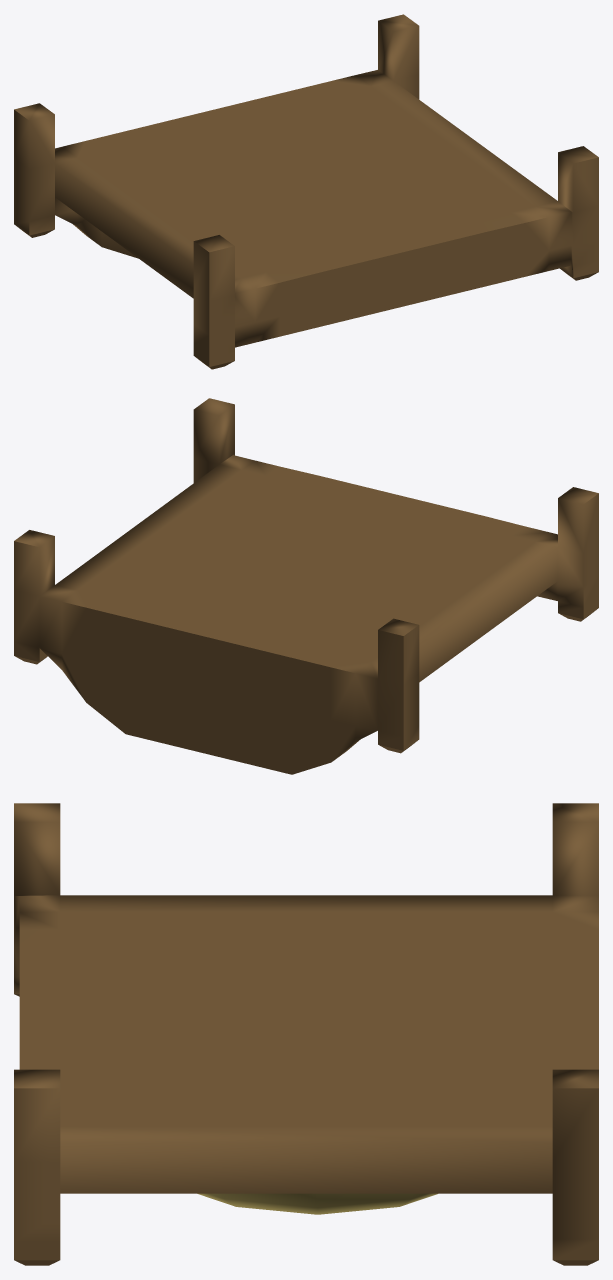
File: Bed.fbx
3 renders of one model, top to bottom at view 1: azimuth 30°, elevation 25°; view 2: azimuth 150°, elevation 25°; view 3: azimuth 270°, elevation 25°, orthographic. The views are drawn at different scales.
Visible parts, largest first — view 1: pCube99; view 2: pCube99; view 3: pCube99, pCylinder12.
Boxes of the visible parts, x1,y1,x2,y2 form: pCube99: (14,14,598,369); pCube99: (14,398,598,774); pCube99: (14,803,598,1265); pCylinder12: (197,1193,437,1214).
Bounding box in the file's own units: 2304 × 938 × 2000.
